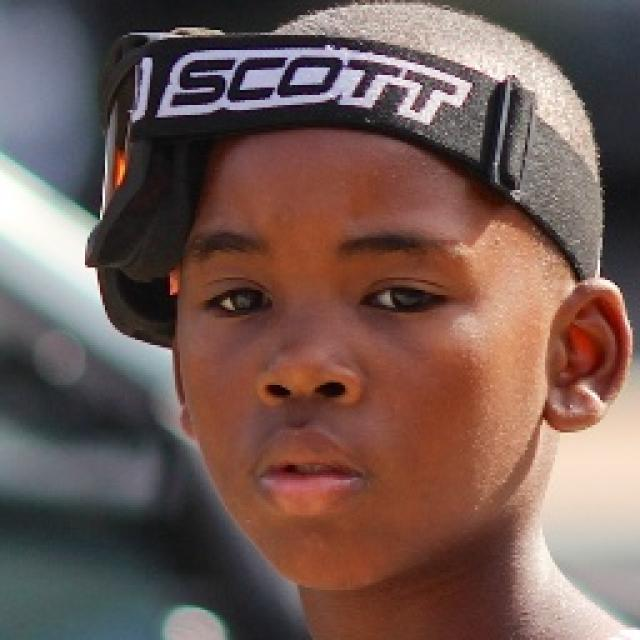earlobe: (540, 383, 588, 437)
eye: (360, 280, 443, 314), (201, 284, 273, 319)
nose: (253, 372, 359, 427)
wholeear: (540, 278, 633, 437)
